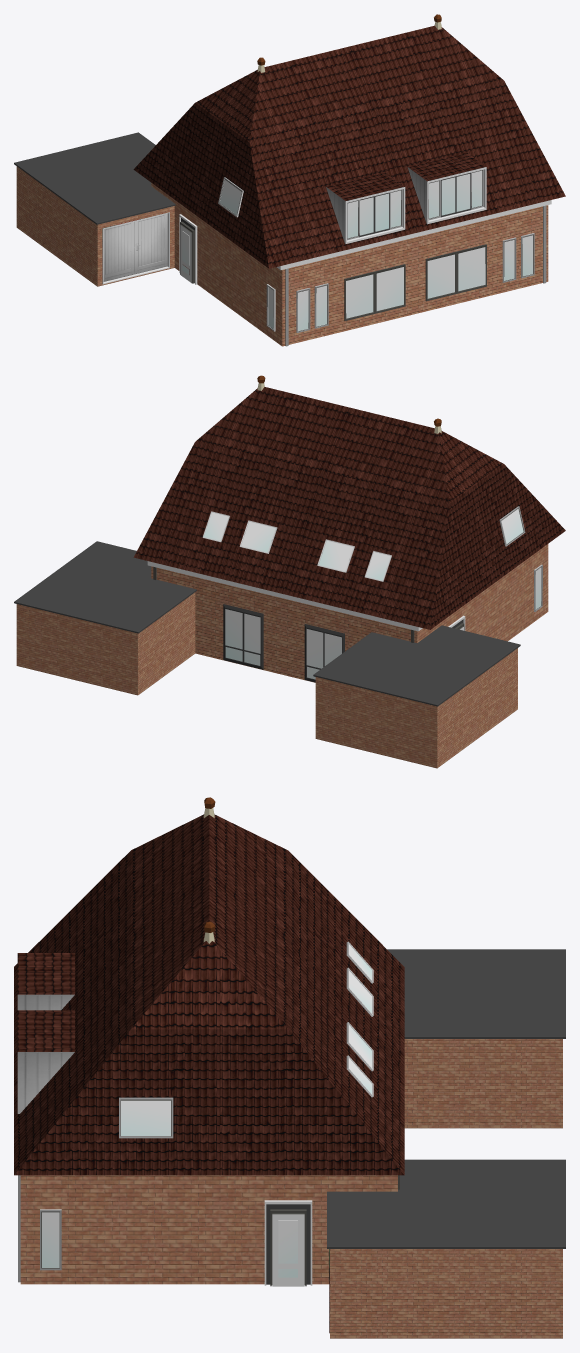
The model's file is Woning Hameie type 2.fbx.
The picture shows the model from 3 angles, top to bottom: view 1: azimuth 30°, elevation 25°; view 2: azimuth 150°, elevation 25°; view 3: azimuth 270°, elevation 25°; orthographic projection. The views are drawn at different scales.
Parts seen in each view (by area): view 1: Woning_Hameie_type_2; view 2: Woning_Hameie_type_2; view 3: Woning_Hameie_type_2.
Boxes of the visible parts, bbox=[...] form: Woning_Hameie_type_2: bbox=[14, 14, 565, 346]; Woning_Hameie_type_2: bbox=[14, 375, 565, 768]; Woning_Hameie_type_2: bbox=[14, 797, 565, 1338].
Bounding box in the file's own units: 18.81 × 9.75 × 14.74.
1 material, 1 textured.
